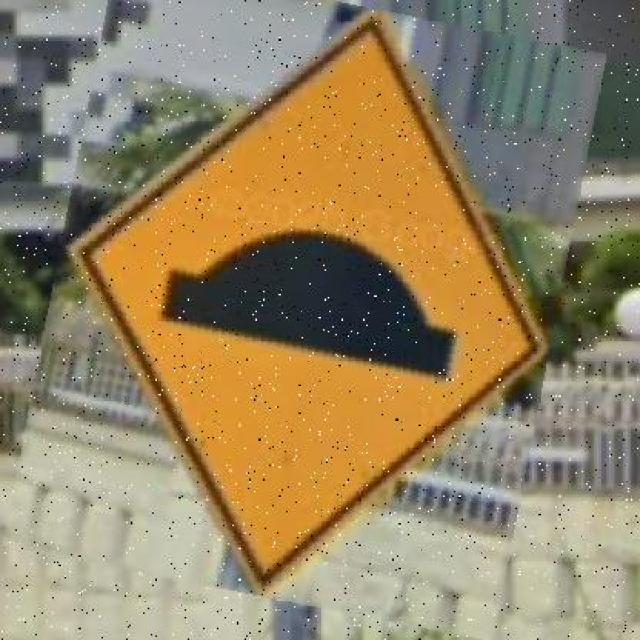Polisi Tidur: (27, 0, 580, 618)
